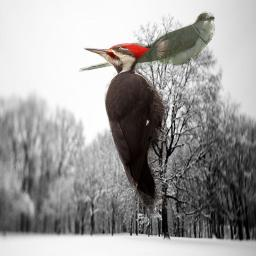Cuckoo: (78, 11, 215, 73)
Woodpecker: (80, 43, 170, 214)
